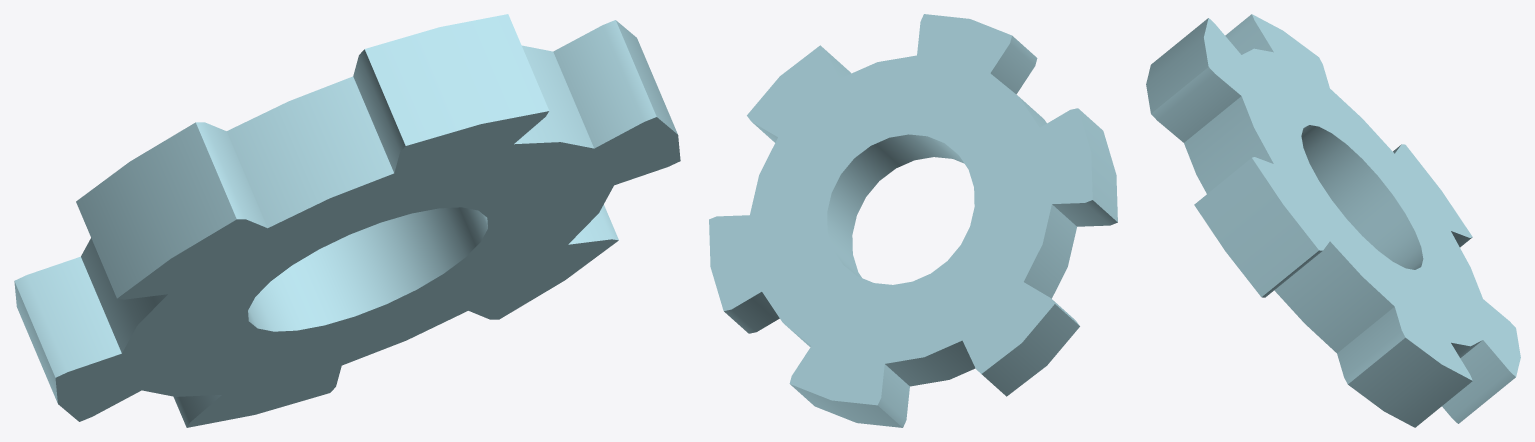
The model's file is Gear.fbx.
3 renders of one model, left to right at view 1: azimuth 30°, elevation 25°; view 2: azimuth 150°, elevation 25°; view 3: azimuth 270°, elevation 25°, orthographic. The views are drawn at different scales.
Parts seen in each view (by area): view 1: Gear; view 2: Gear; view 3: Gear.
Part boxes in pixels (x1,y1,x2,y2): Gear: (14,14,680,427); Gear: (709,14,1117,427); Gear: (1146,14,1520,427).
Size of the model in its own units: 172 by 152 by 141.
